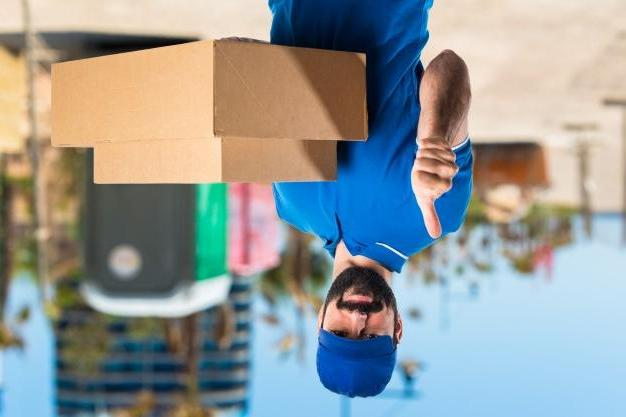thumbsdown: (411, 136, 459, 239)
